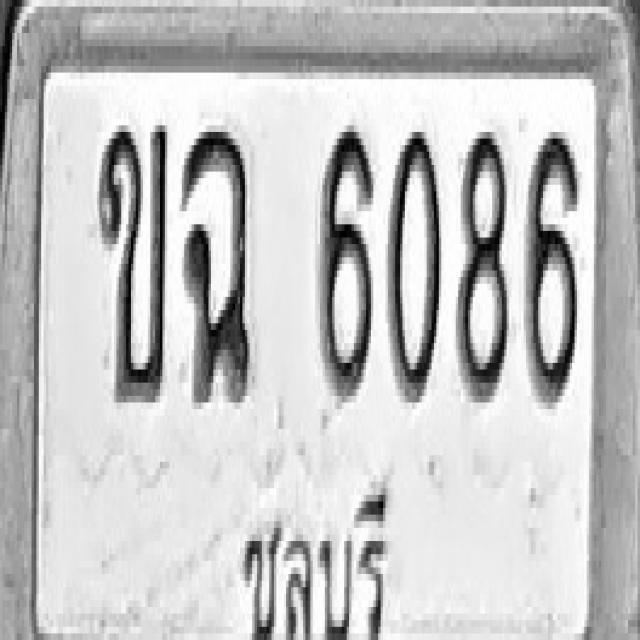0: (386, 125, 442, 402)
11KhorKhai: (97, 119, 167, 402)
18ChorChing: (181, 125, 251, 402)
6: (525, 125, 578, 402), (319, 122, 372, 399)
8: (456, 125, 506, 402)
Chonburi: (235, 478, 392, 640)
